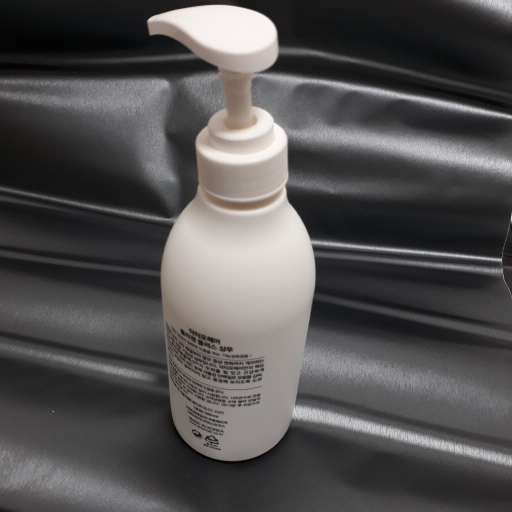Plastic_3: (141, 3, 317, 465)
